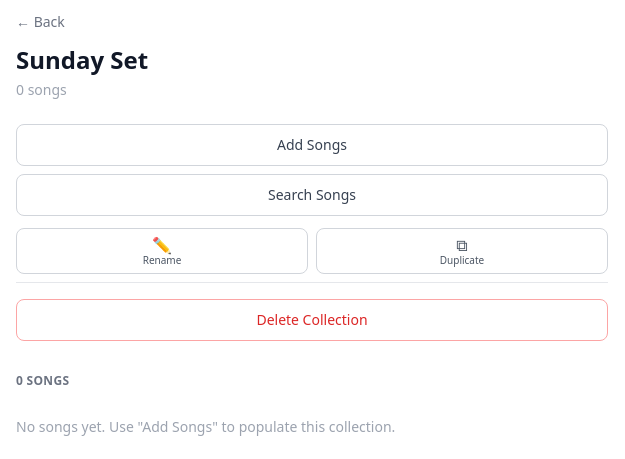
Test: CollectionDetailView action icon row › clicking the Rename icon replaces the title with an editable input and hides the icon
This screenshot has width=625, height=459.
Click the button named "Rename collection".
click(162, 251)  # box top-left (16, 228), bottom-right (308, 274)
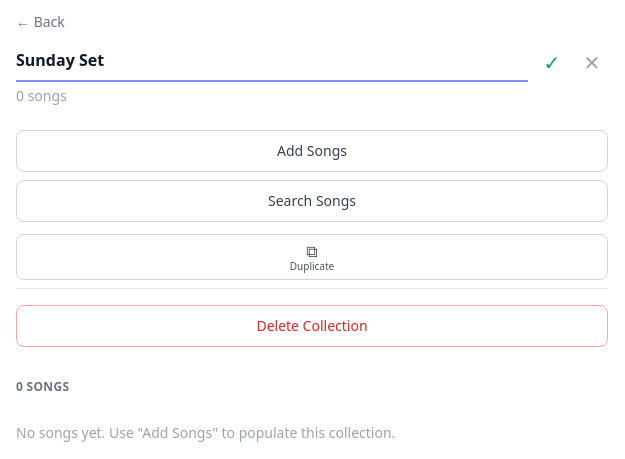
expect the field showing "Sunday Set" is shown: met, box top-left (16, 44), bottom-right (528, 82)
